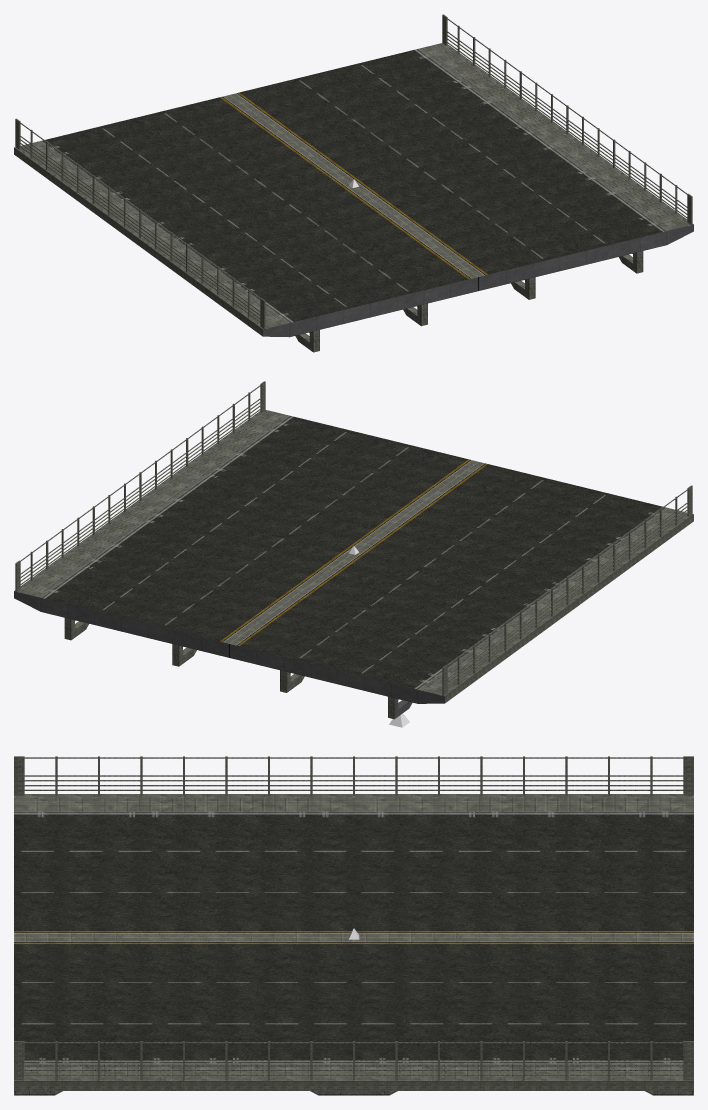
Rendered from ibbsegLT01.FBX.
The picture shows the model from 3 angles, top to bottom: view 1: azimuth 30°, elevation 25°; view 2: azimuth 150°, elevation 25°; view 3: azimuth 270°, elevation 25°; orthographic projection. The views are drawn at different scales.
Visible parts, largest first — view 1: ibbseg01; view 2: ibbseg01; view 3: ibbseg01.
Boxes of the visible parts, x1,y1,x2,y2 form: ibbseg01: [14, 14, 693, 352]; ibbseg01: [14, 381, 693, 719]; ibbseg01: [14, 756, 693, 1095].
Size of what is drawn, in the model's own units: 64 by 64 by 18.
